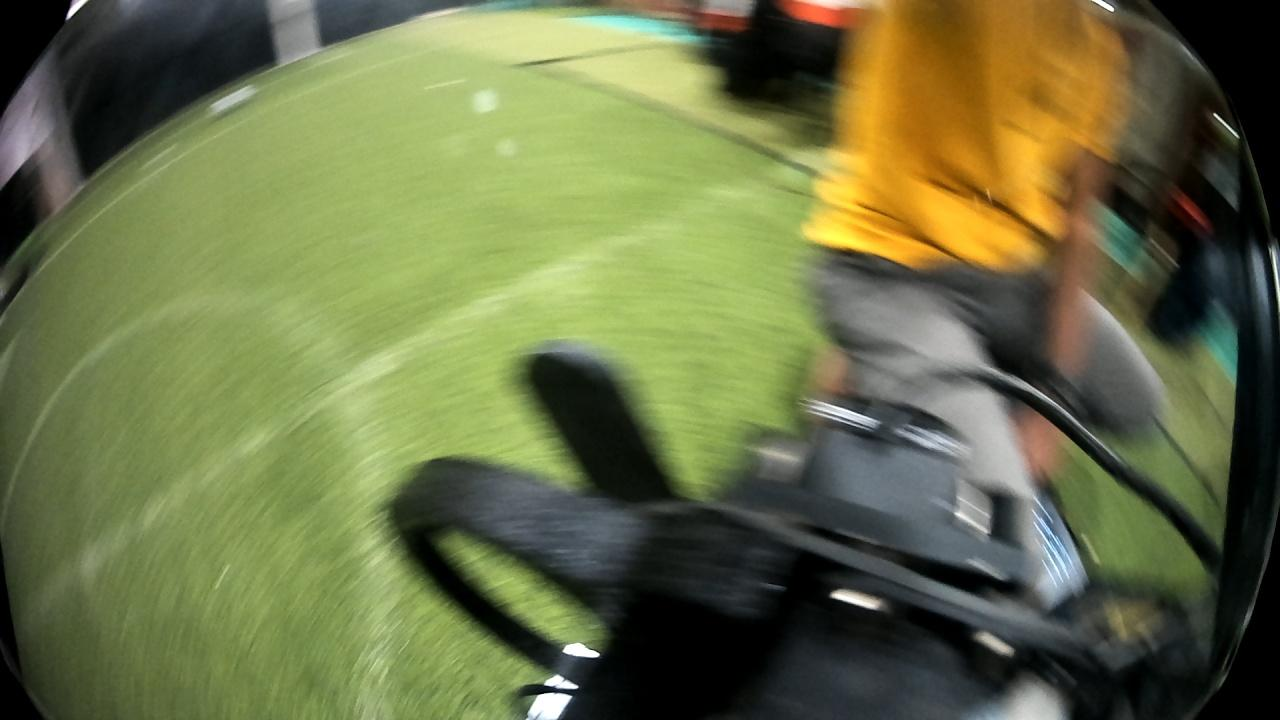ball: (201, 81, 258, 123)
